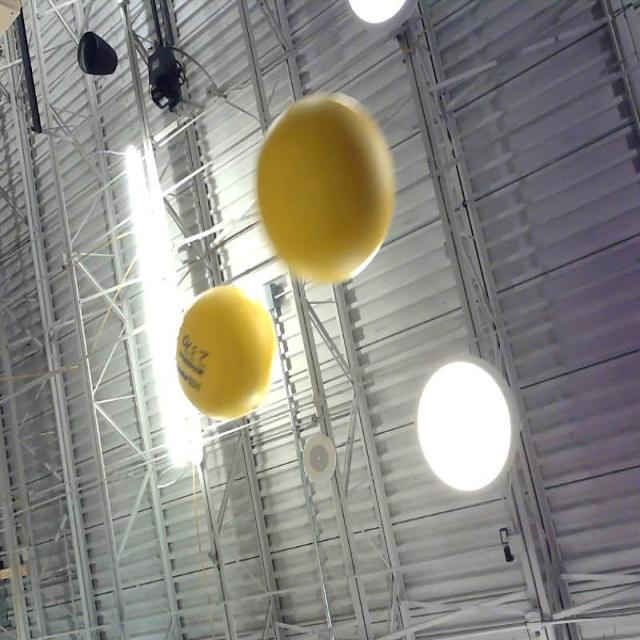Fuel: (257, 98, 394, 283), (175, 286, 275, 420)
